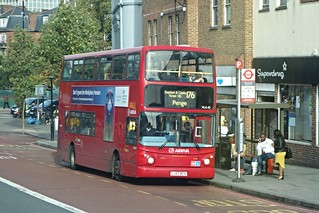bus: (55, 44, 217, 181)
